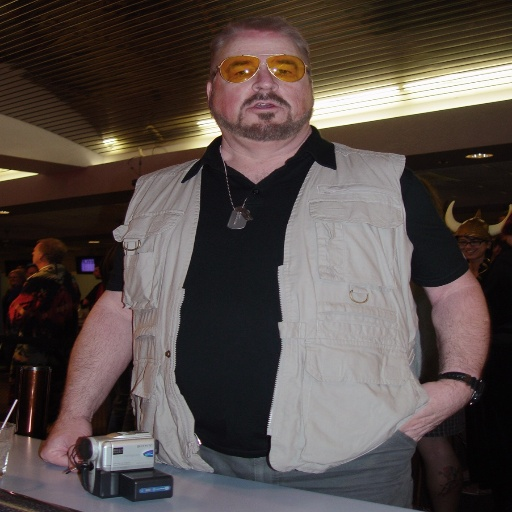hand: (395, 379, 468, 442), (37, 418, 90, 469)
